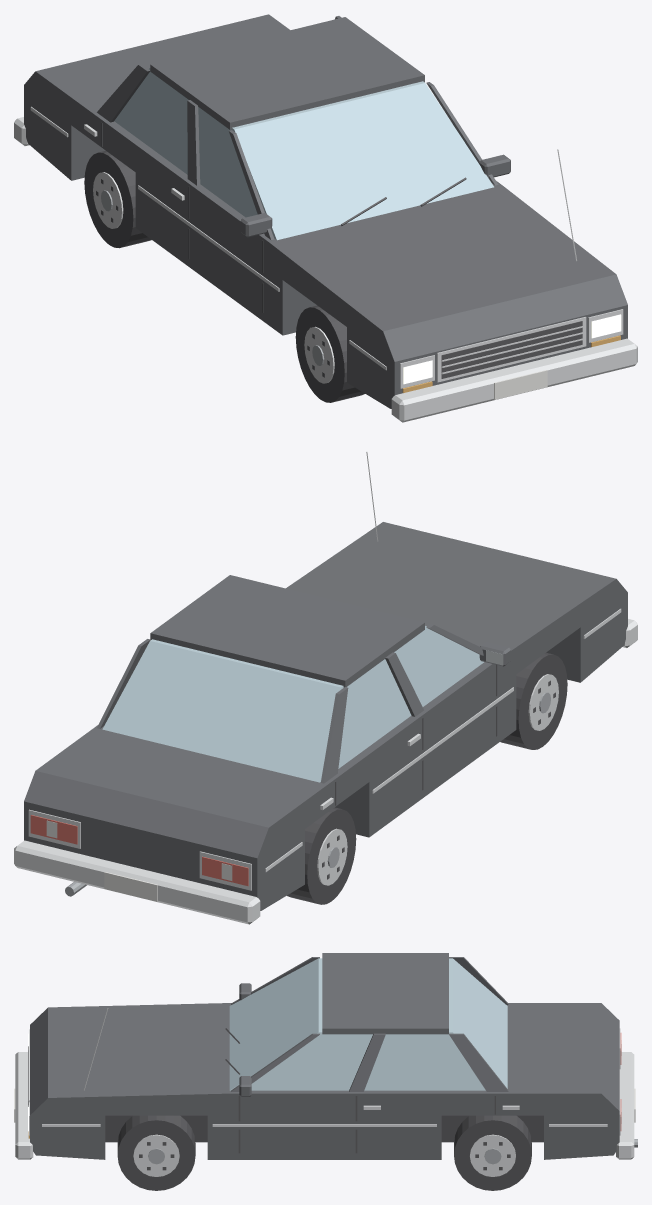
File: car_sedan_k.glb
3 views of the same model, one above another, from view 1: azimuth 30°, elevation 25°; view 2: azimuth 150°, elevation 25°; view 3: azimuth 270°, elevation 25° (orthographic). The views are drawn at different scales.
Visible parts, largest first — view 1: car_sedan_k_car_k, car_sedan_k_glass, car_sedan_k_chrome, car_sedan_k_rubber, car_sedan_k_dark, car_sedan_k_lamp_glass, car_sedan_k_paint_w; view 2: car_sedan_k_car_k, car_sedan_k_glass, car_sedan_k_chrome, car_sedan_k_rubber, car_sedan_k_neon_r, car_sedan_k_paint_w; view 3: car_sedan_k_car_k, car_sedan_k_glass, car_sedan_k_rubber, car_sedan_k_chrome, car_sedan_k_dark, car_sedan_k_steel.
Boxes of the visible parts, x1,y1,x2,y2 form: car_sedan_k_car_k: (24, 14, 627, 408); car_sedan_k_glass: (114, 68, 493, 240); car_sedan_k_chrome: (14, 106, 637, 422); car_sedan_k_rubber: (84, 150, 364, 402); car_sedan_k_dark: (96, 122, 582, 378); car_sedan_k_lamp_glass: (403, 314, 621, 384); car_sedan_k_paint_w: (494, 370, 547, 399); car_sedan_k_car_k: (24, 522, 627, 910); car_sedan_k_glass: (102, 626, 483, 782); car_sedan_k_chrome: (14, 451, 637, 924); car_sedan_k_rubber: (287, 652, 567, 904); car_sedan_k_neon_r: (30, 815, 248, 886); car_sedan_k_paint_w: (46, 820, 232, 901); car_sedan_k_car_k: (30, 953, 619, 1159); car_sedan_k_glass: (229, 958, 507, 1090); car_sedan_k_rubber: (105, 1115, 543, 1190); car_sedan_k_chrome: (15, 1008, 634, 1176); car_sedan_k_dark: (28, 1028, 510, 1170); car_sedan_k_steel: (148, 1139, 637, 1164).
Bounding box in the file's own units: 2 × 1.6 × 5.12.
